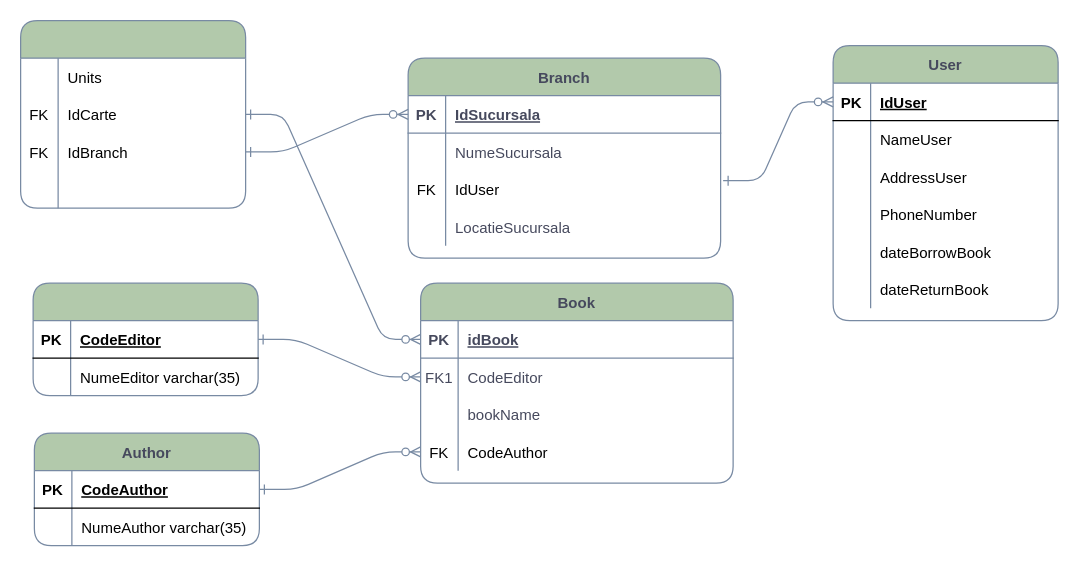
Image size: 1079x566. Some labels were removed from this diagram. Here are the shapes that lost their labels. From the top down, the box of each, then its label:
(19, 19, 246, 208): Inventory
(32, 282, 258, 396): Publisher
